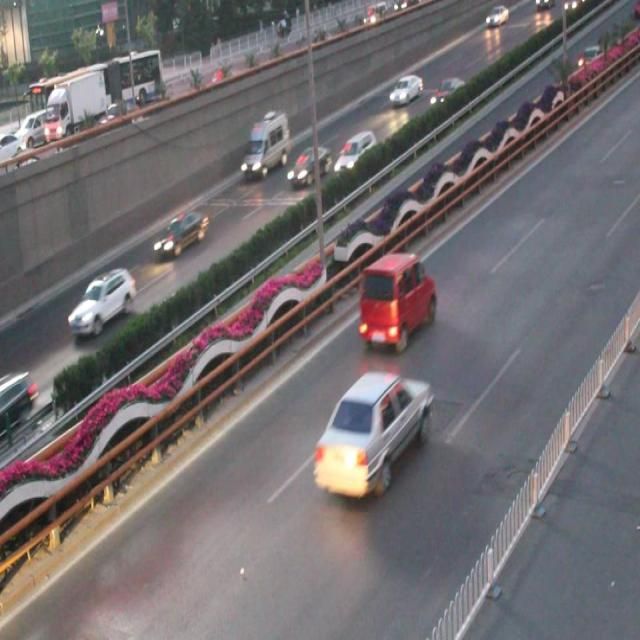car: (311, 369, 432, 497), (358, 252, 434, 348), (66, 269, 137, 335), (152, 208, 208, 258), (1, 367, 38, 434), (332, 129, 377, 172), (287, 143, 326, 186), (387, 73, 424, 107), (428, 76, 464, 108)
truck: (241, 111, 290, 178)
